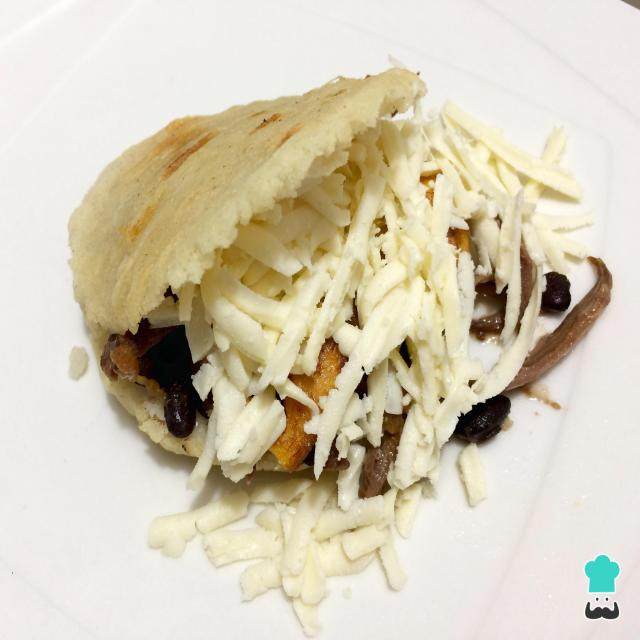arepa: (41, 60, 451, 361)
